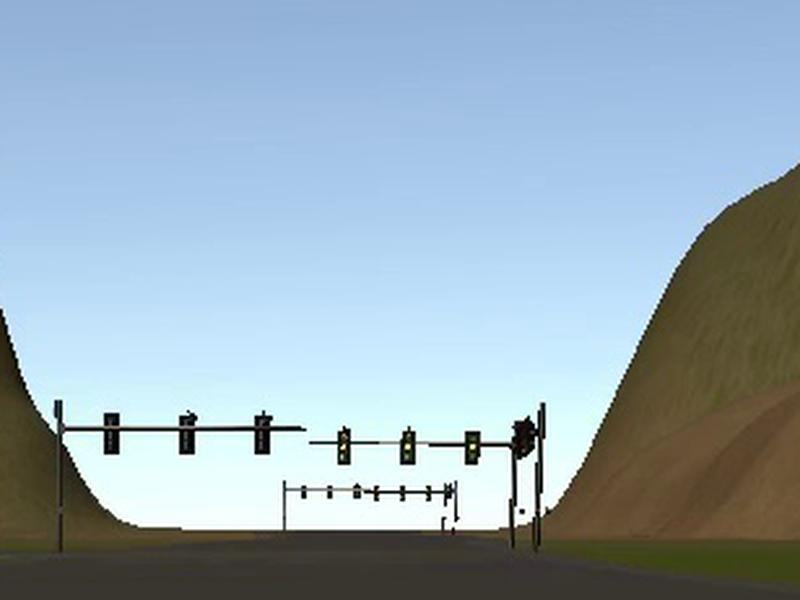Yellow: (464, 431, 482, 466), (335, 428, 351, 466), (400, 431, 416, 466)
